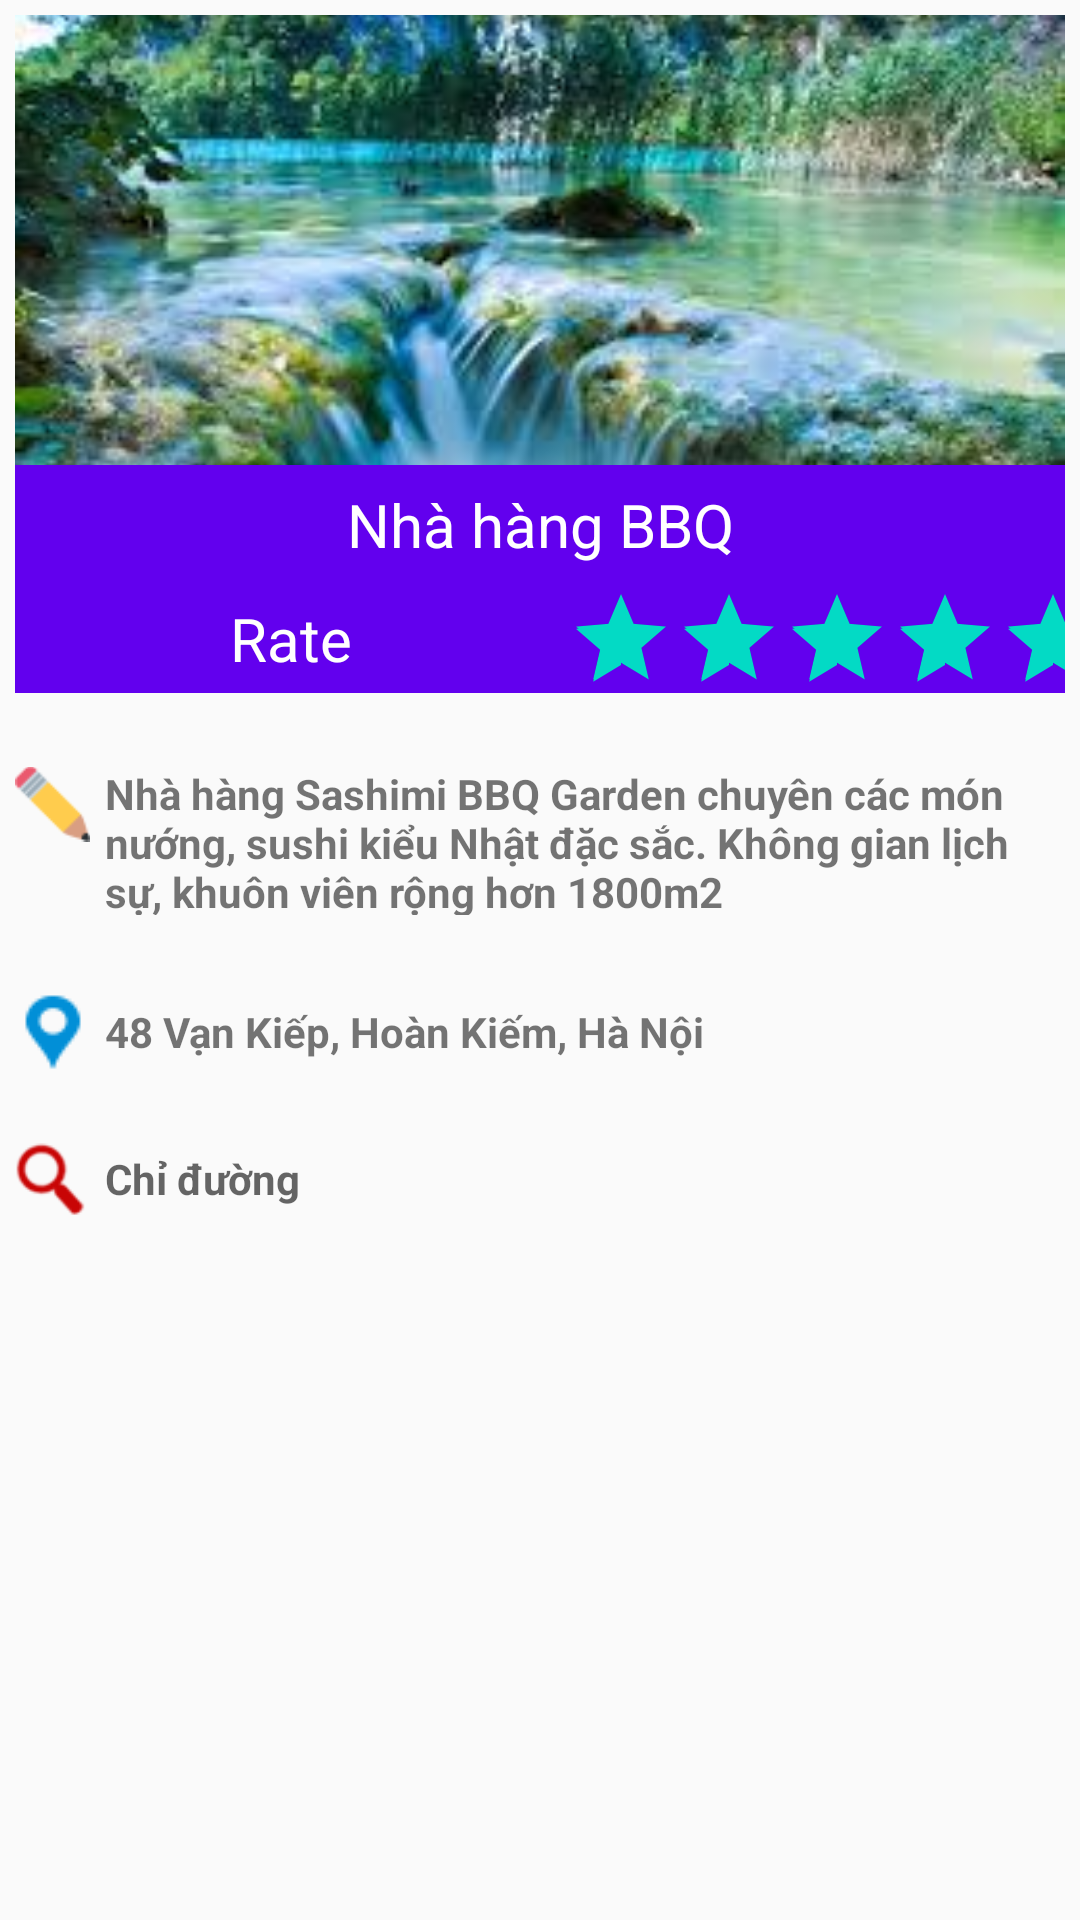

Locate icon controls on the screen. Image size 1080px×1920px, boxes as {"x1": x1, "y1": y1, "x2": x2, "y2": y2}.
but: {"x1": 15, "y1": 767, "x2": 90, "y2": 842}
dinhvi: {"x1": 25, "y1": 995, "x2": 81, "y2": 1069}
